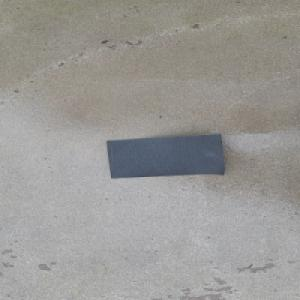PaintChip: (104, 132, 226, 178)
